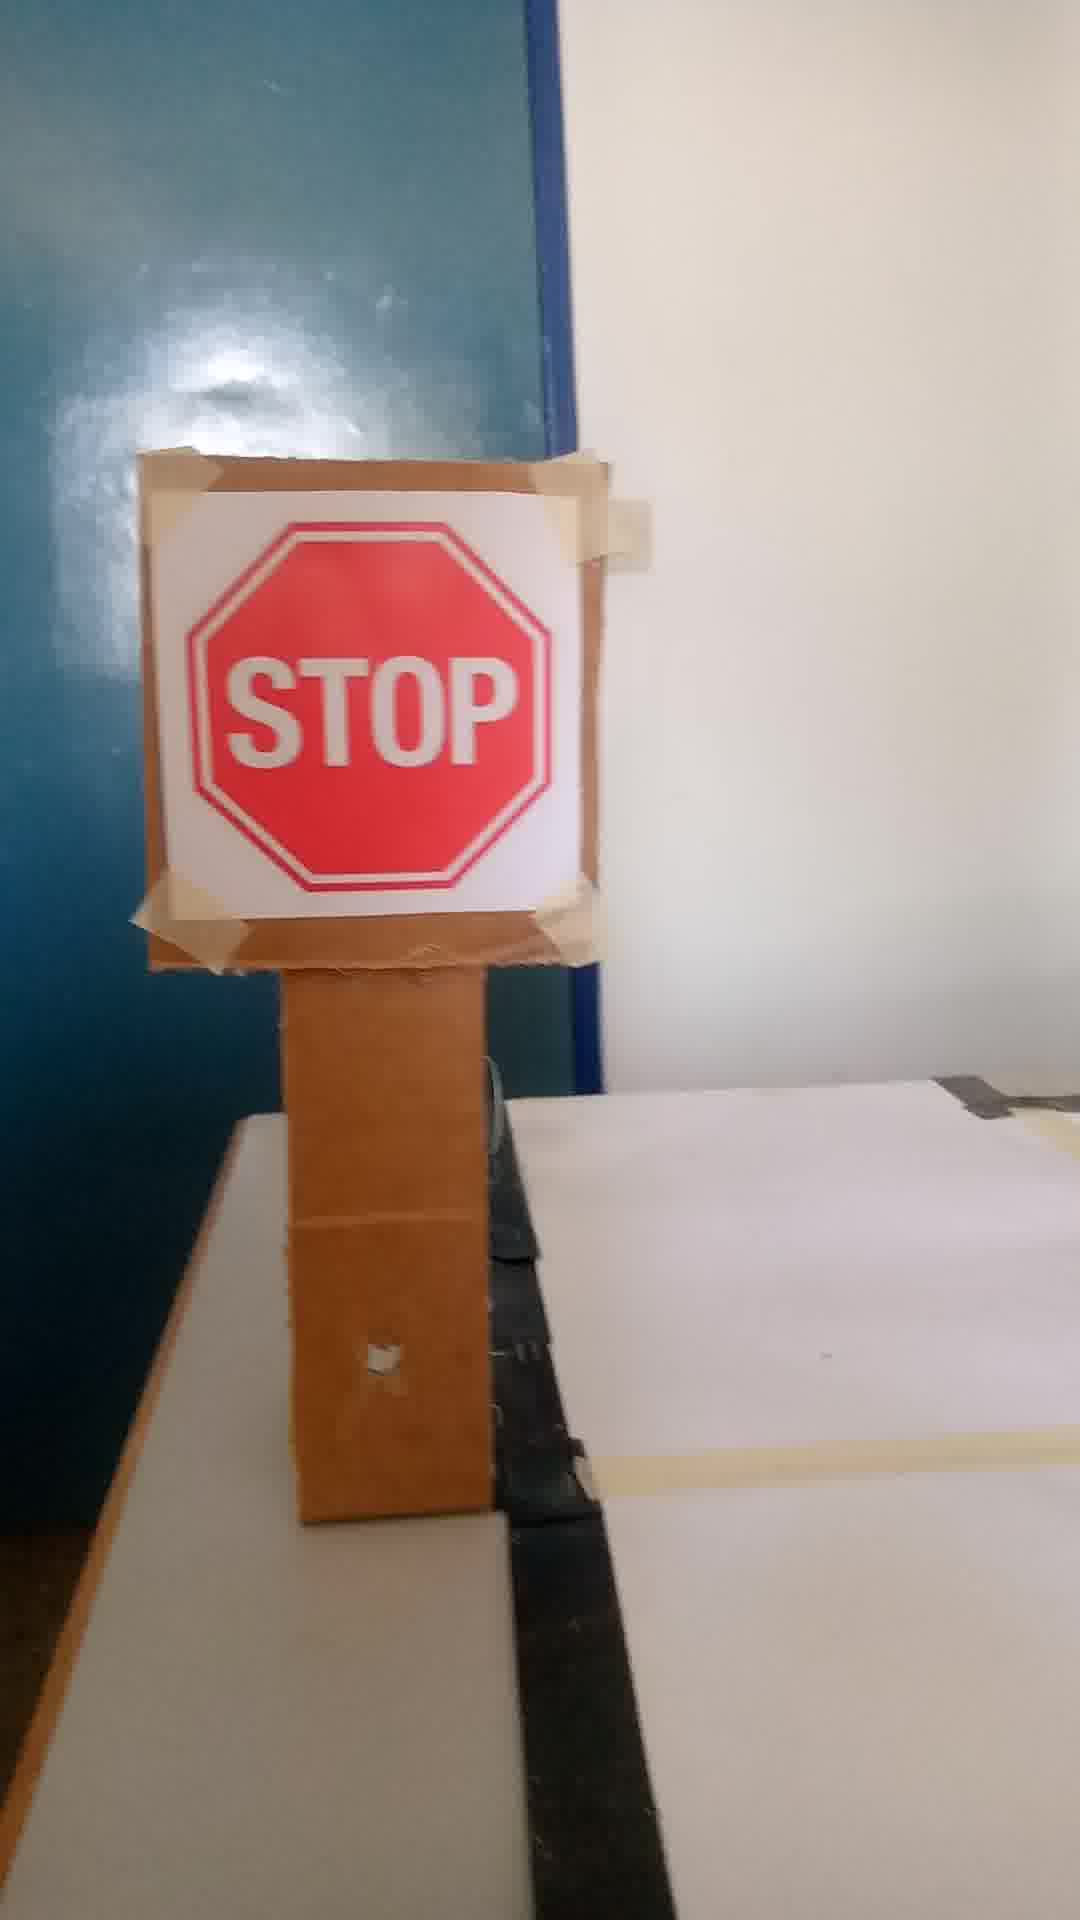panel101: (124, 483, 601, 928)
